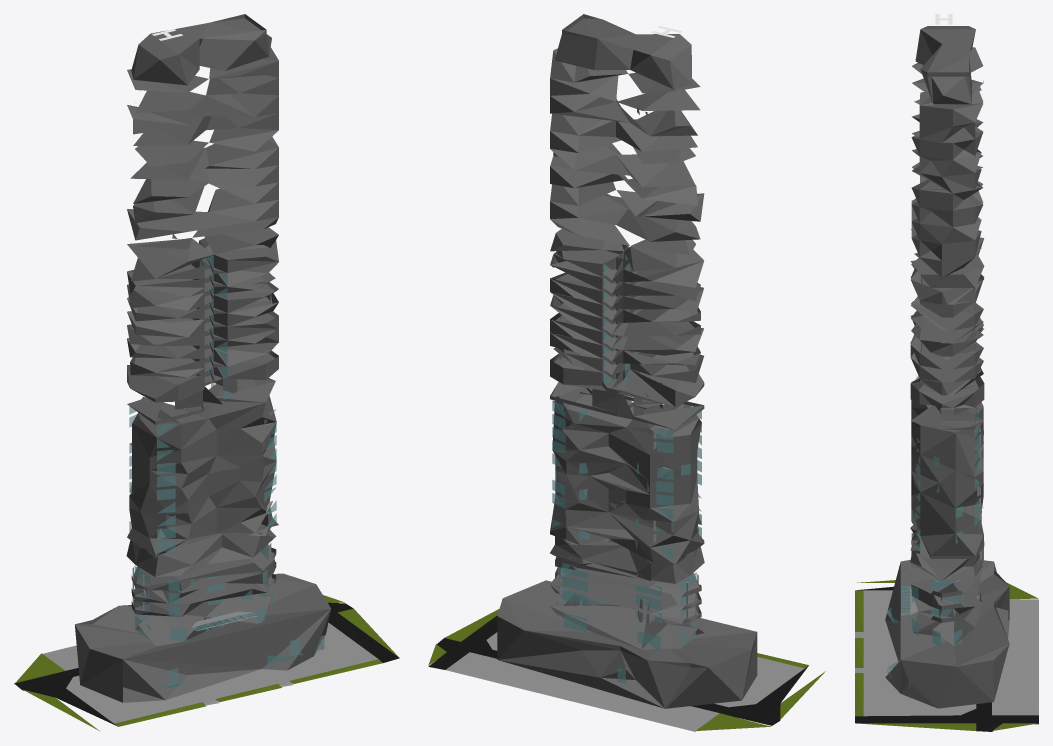
3 views of the same model, side by side, from view 1: azimuth 30°, elevation 25°; view 2: azimuth 150°, elevation 25°; view 3: azimuth 270°, elevation 25° (orthographic). The views are drawn at different scales.
Visible parts, largest first — view 1: Object_6, Object_4, Object_12, Object_2, Object_3, Object_13; view 2: Object_6, Object_4, Object_12, Object_3, Object_2, Object_13; view 3: Object_6, Object_4, Object_12, Object_3, Object_2, Object_13.
Part boxes in pixels (left/top/right/bottom): Object_6: left=75, top=14, right=330, bottom=702; Object_4: left=43, top=622, right=378, bottom=723; Object_12: left=129, top=243, right=324, bottom=688; Object_2: left=14, top=595, right=399, bottom=730; Object_3: left=14, top=602, right=399, bottom=726; Object_13: left=129, top=99, right=324, bottom=649; Object_6: left=497, top=14, right=757, bottom=708; Object_4: left=446, top=632, right=804, bottom=731; Object_12: left=552, top=246, right=701, bottom=683; Object_3: left=428, top=615, right=808, bottom=725; Object_2: left=428, top=609, right=825, bottom=730; Object_13: left=553, top=106, right=701, bottom=624; Object_6: left=885, top=26, right=1009, bottom=708; Object_4: left=855, top=590, right=1038, bottom=716; Object_12: left=887, top=376, right=981, bottom=677; Object_3: left=855, top=586, right=1038, bottom=731; Object_2: left=855, top=580, right=1038, bottom=730; Object_13: left=900, top=80, right=983, bottom=699.
Size of the model in its own units: 80 by 147 by 39.6.
